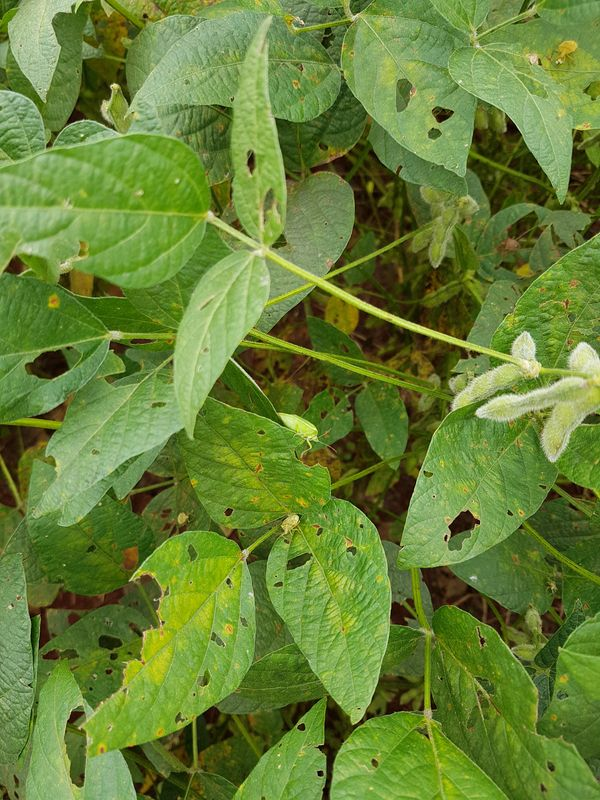Euschistus_heros_adulto: (496, 232, 525, 259)
Euschistus_heros_ninfa: (276, 511, 305, 540), (551, 36, 581, 64), (174, 509, 192, 528)
Nezara_viridula_adulto: (269, 406, 337, 465)
